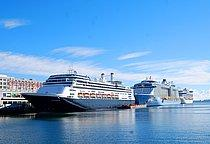Ship: (18, 68, 139, 118), (130, 74, 188, 112)
